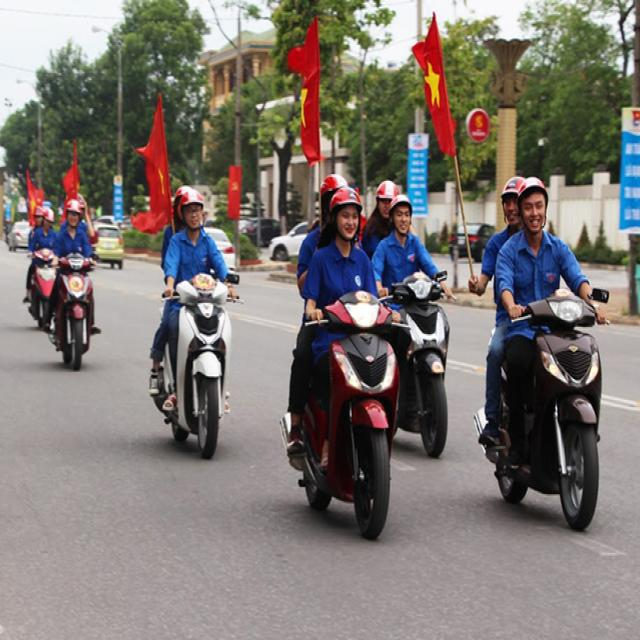helmet: (330, 187, 363, 213)
